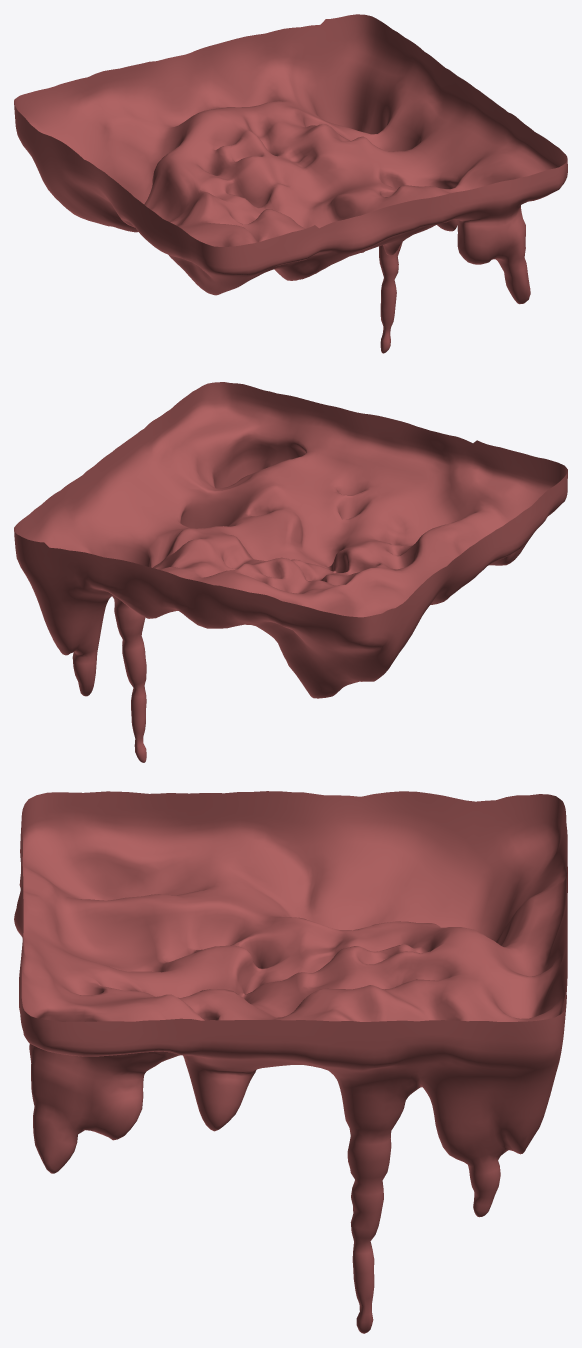
The model's file is Plafond_2_LOW.fbx.
3 views of the same model, one above another, from view 1: azimuth 30°, elevation 25°; view 2: azimuth 150°, elevation 25°; view 3: azimuth 270°, elevation 25° (orthographic). The views are drawn at different scales.
Visible parts, largest first — view 1: Plafond_2_LOW; view 2: Plafond_2_LOW; view 3: Plafond_2_LOW.
Boxes of the visible parts, box(x1,y1,x2,y2) form: Plafond_2_LOW: box(14, 14, 567, 353); Plafond_2_LOW: box(14, 382, 567, 762); Plafond_2_LOW: box(14, 791, 567, 1333).
Bounding box in the file's own units: 3251 × 2308 × 3267.
